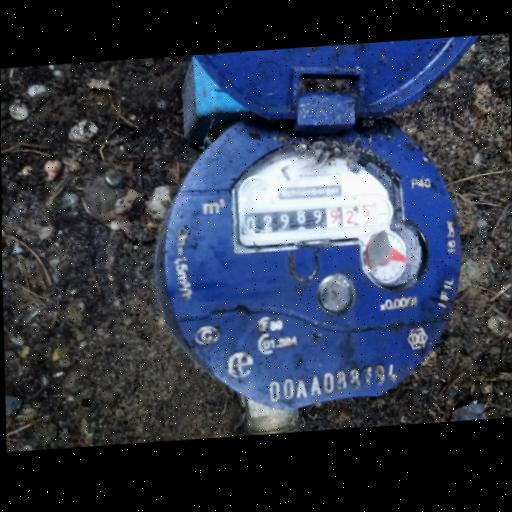0: (246, 213, 261, 233)
2: (260, 212, 276, 234), (342, 206, 355, 227)
5: (358, 204, 373, 227)
8: (294, 209, 309, 230)
9: (310, 208, 325, 229), (277, 211, 291, 233), (326, 207, 339, 228)
border_water_meter_number: (243, 195, 390, 236)
